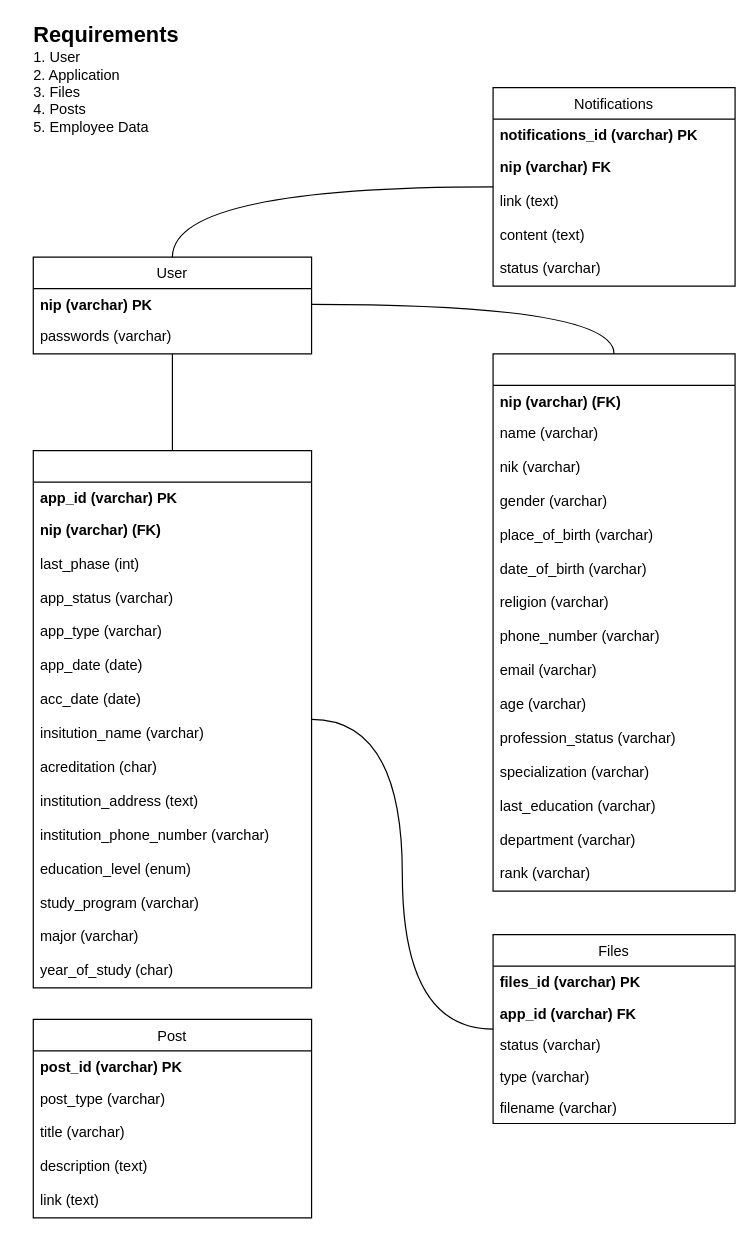
The diagram is 756 pixels wide and 1241 high, and some of its shapes have lost their labels. Each missing label, with the box of its shape:
Apllications: (32, 450, 312, 988)
Employee Data: (492, 353, 735, 891)
